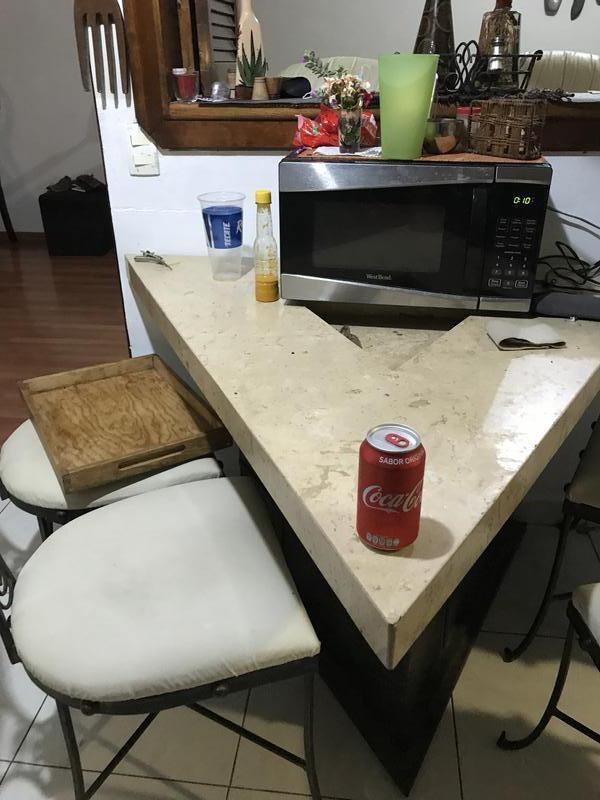coca_cola: (359, 423, 425, 552)
